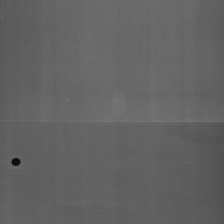welding_line: (1, 115, 224, 131), (10, 154, 22, 168)
